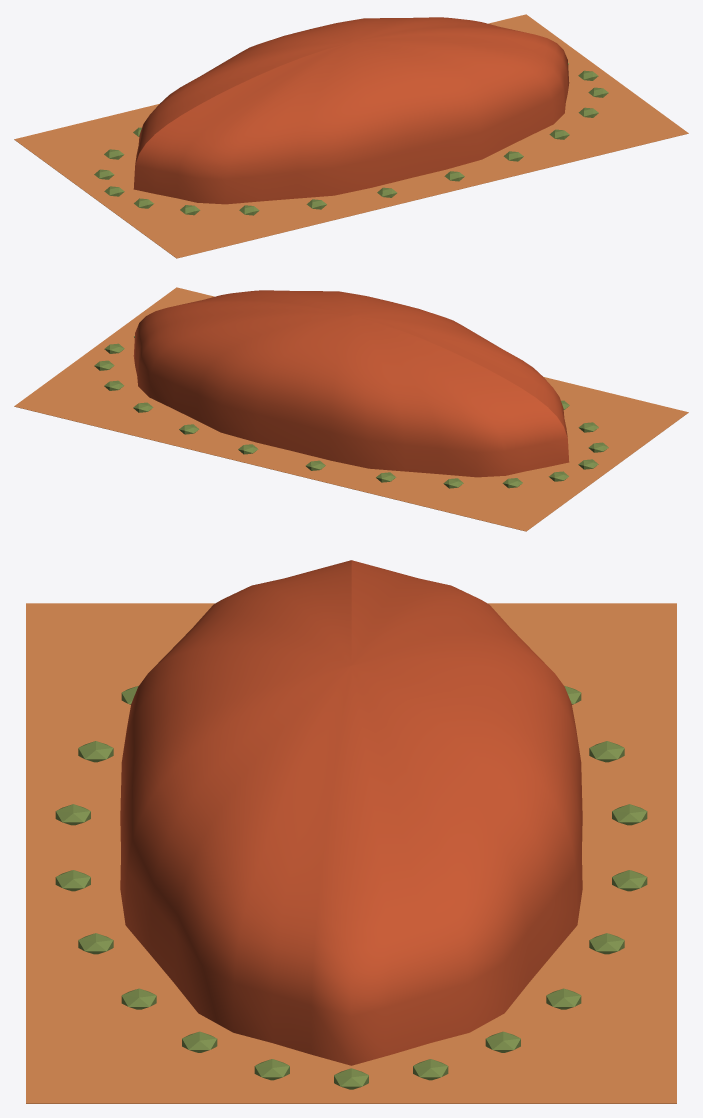
3 views of the same model, one above another, from view 1: azimuth 30°, elevation 25°; view 2: azimuth 150°, elevation 25°; view 3: azimuth 270°, elevation 25° (orthographic). The views are drawn at different scales.
Bounding box in the file's own units: 4000 × 704 × 2200.
